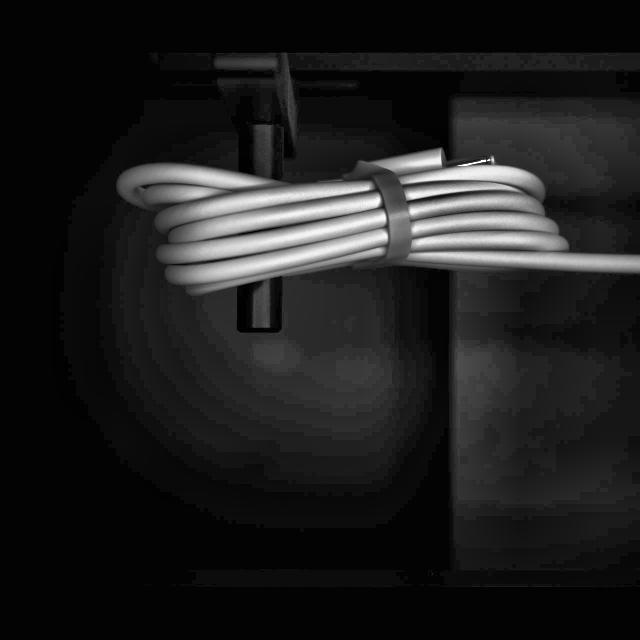Cable: (112, 142, 640, 301)
